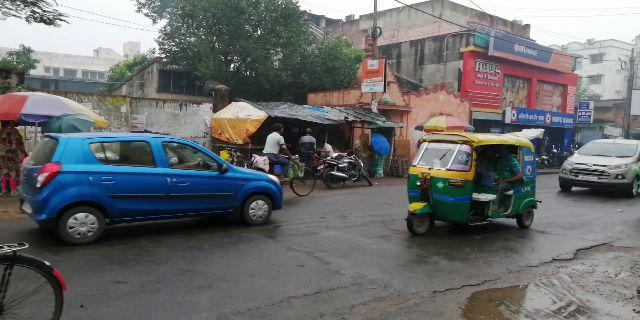Autorickshaw: (404, 132, 544, 244)
Car: (17, 131, 279, 243), (560, 137, 639, 204)
Cycle: (257, 126, 317, 201)
